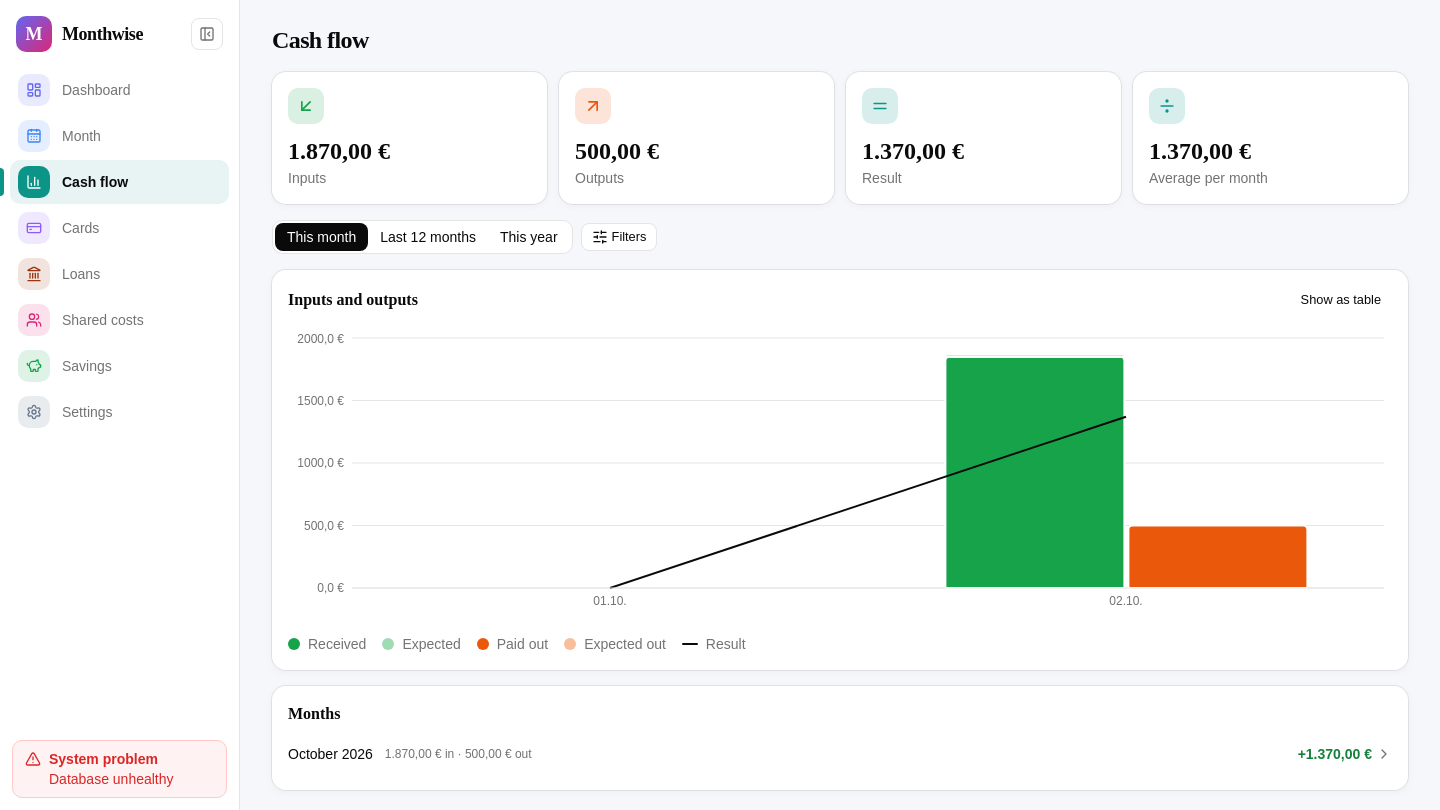
it: Cash flow dashboard and report › shows the chart data as a table
Check: the list item "Received" is shown, box [288,634,366,654]
What coordinates should you click on to do the following:
click the button "Show as table"
I would click on:
 (1341, 300)
Its box is [1290,286,1392,314].
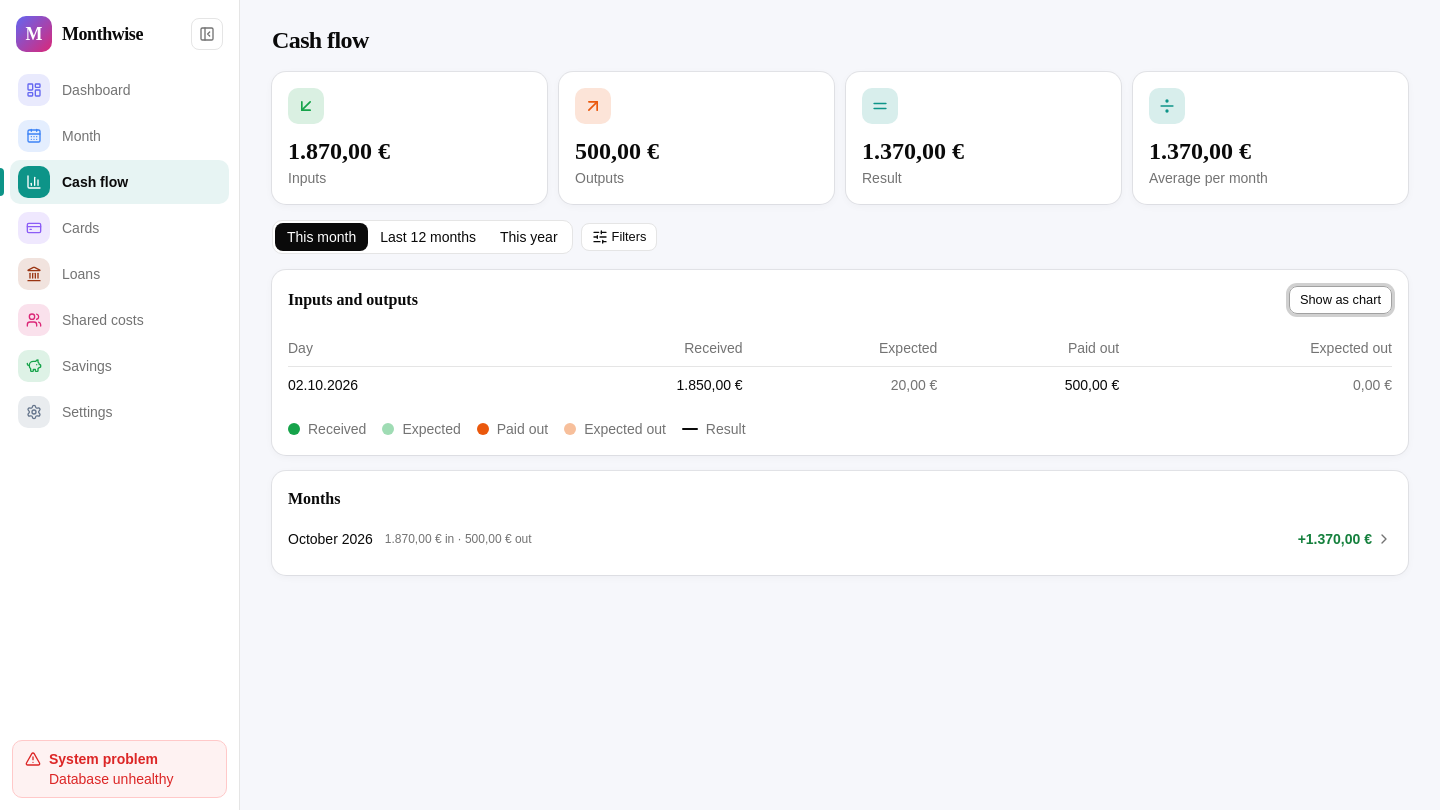
Check: the text "1.850,00 €" is shown, box [522,366,743,403]
Check: the text "20,00 €" is shown, box [743,366,937,403]
Check: the text "500,00 €" is shown, box [937,366,1119,403]
